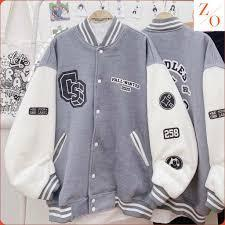sweater: (3, 18, 190, 218)
